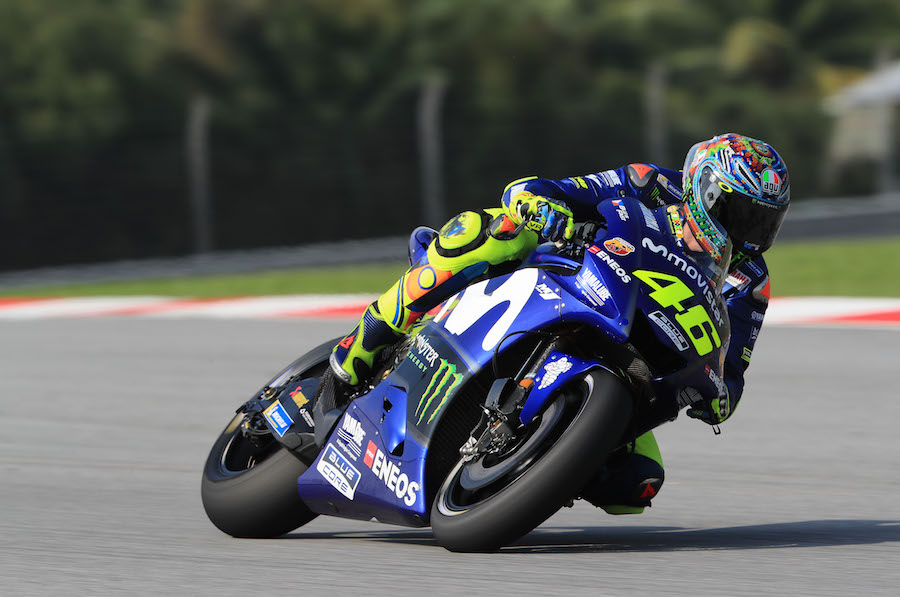helmet: (659, 133, 802, 258)
